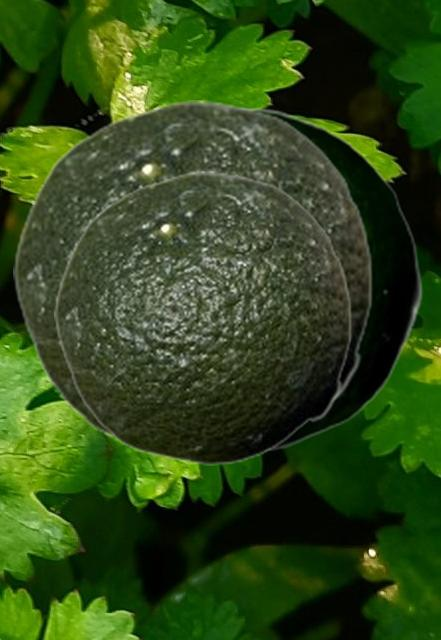calamansi: (13, 100, 372, 446), (54, 171, 351, 464), (247, 107, 422, 453)
